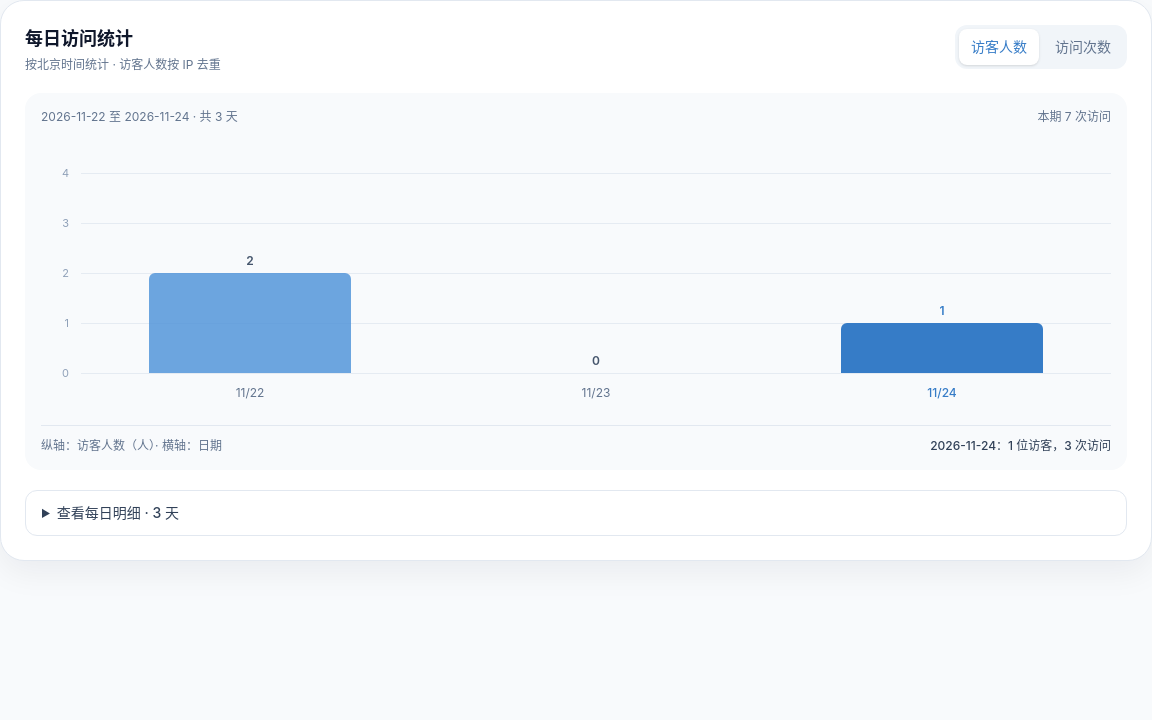
it: daily visitor chart › provides daily detail rows sorted from newest to oldest
Click the heading "查看每日明细 · 3 天".
click(118, 512)  # box [57,504,179,521]
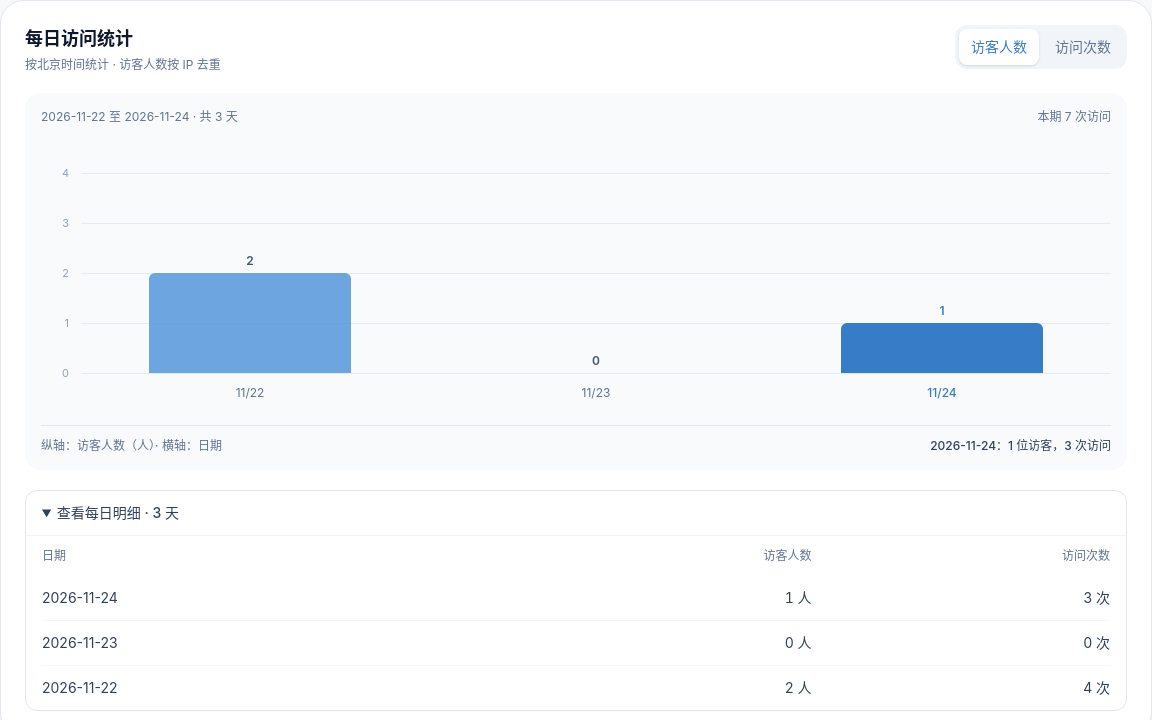
Now the number of rows is 4, box [42,536,1110,576]; [42,576,1110,620]; [42,620,1110,666]; [42,666,1110,710]
Now the text "2026-11-24" is shown, box [42,576,513,620]
Now the text "1 人" is shown, box [513,576,812,620]
